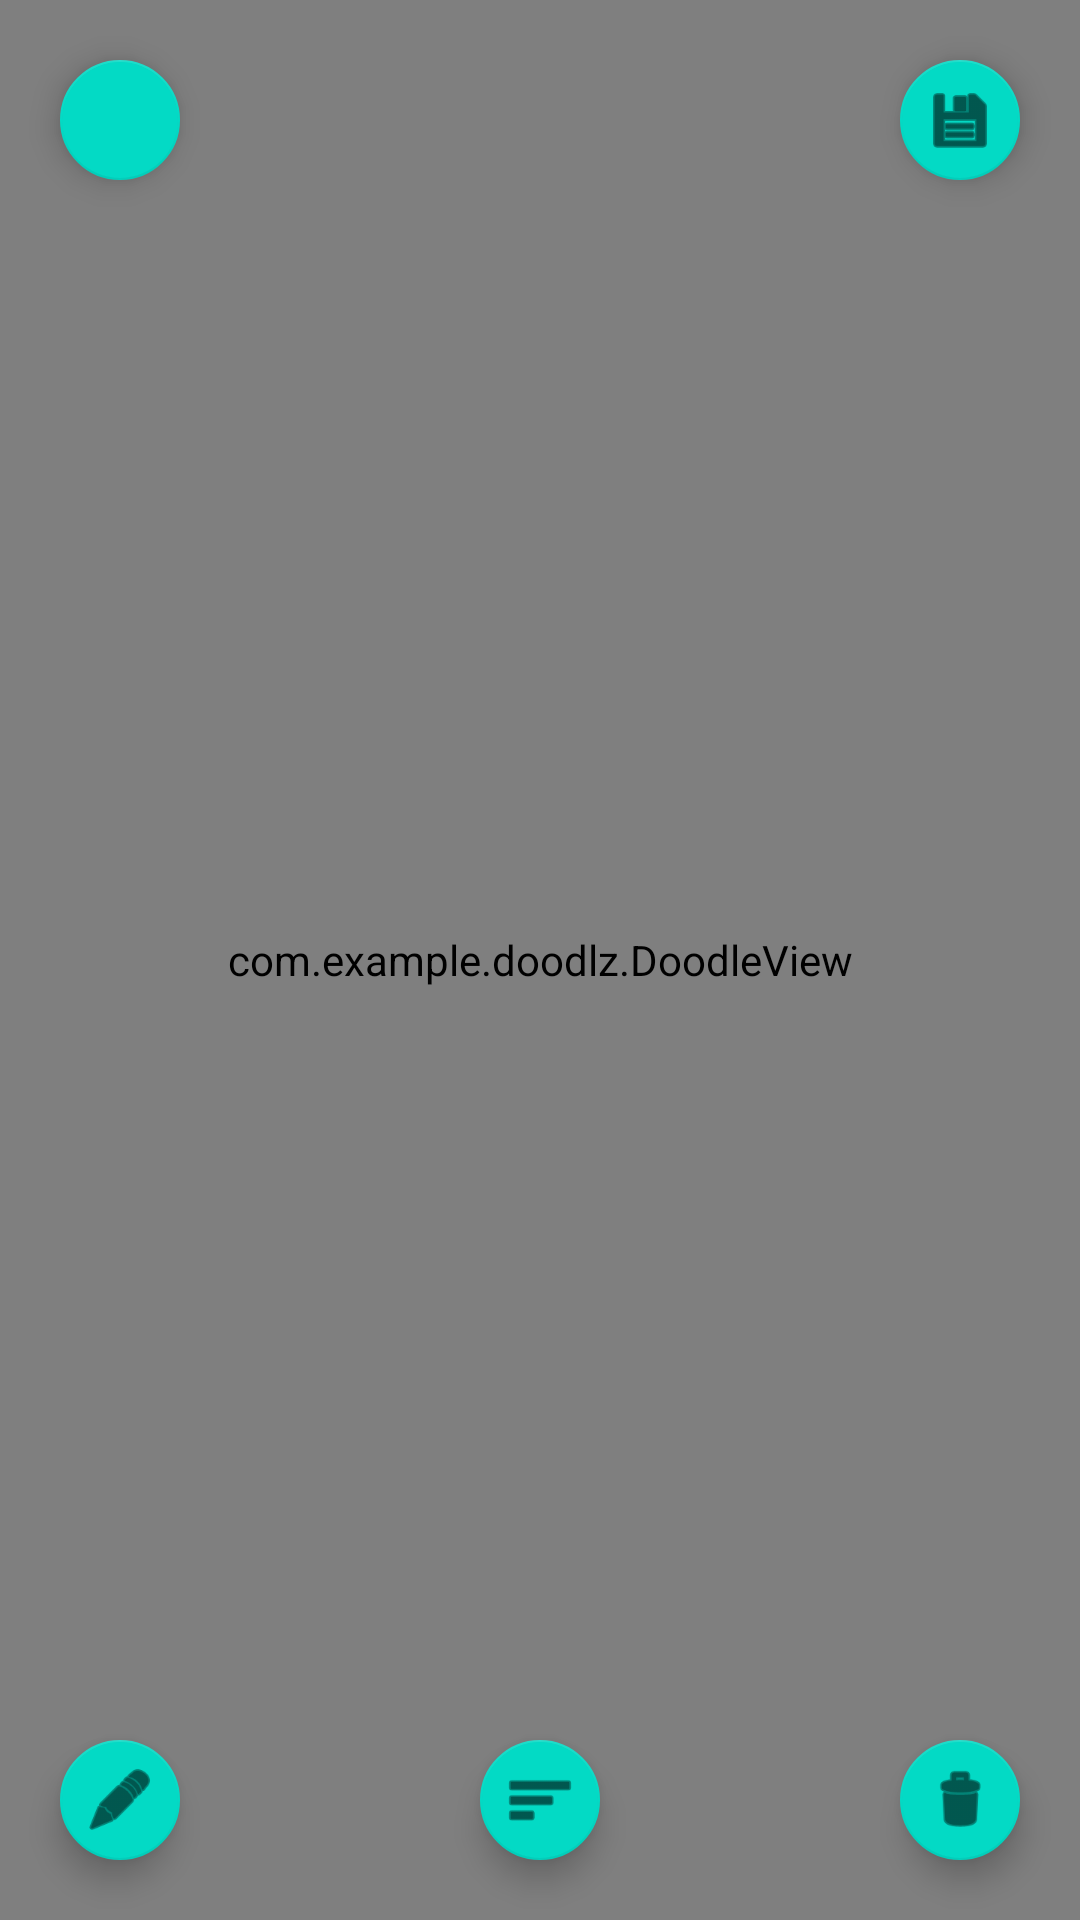

Point at icon controls on the screen. Image size 1080px x 1920px, points as point (x, y).
Apagar doodle: point (960, 1800)
Escolher espessura: point (540, 1800)
Salvar doodle: point (960, 120)
